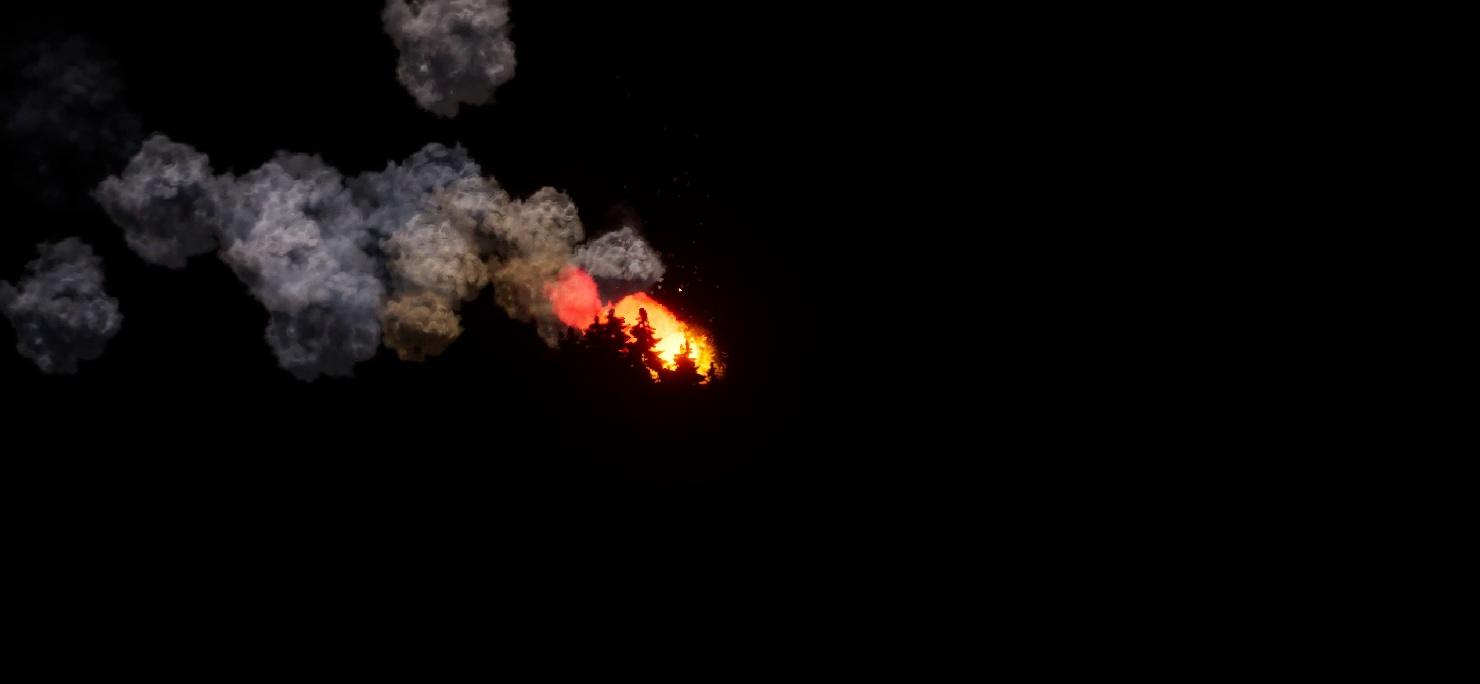fire: (541, 258, 721, 386)
smoke: (0, 132, 672, 373), (385, 0, 526, 111)
